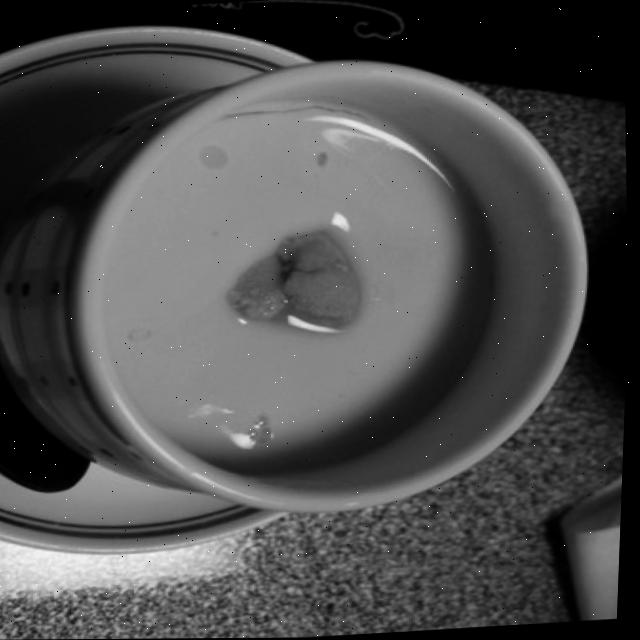鸡蛋料理: (0, 44, 615, 531)
